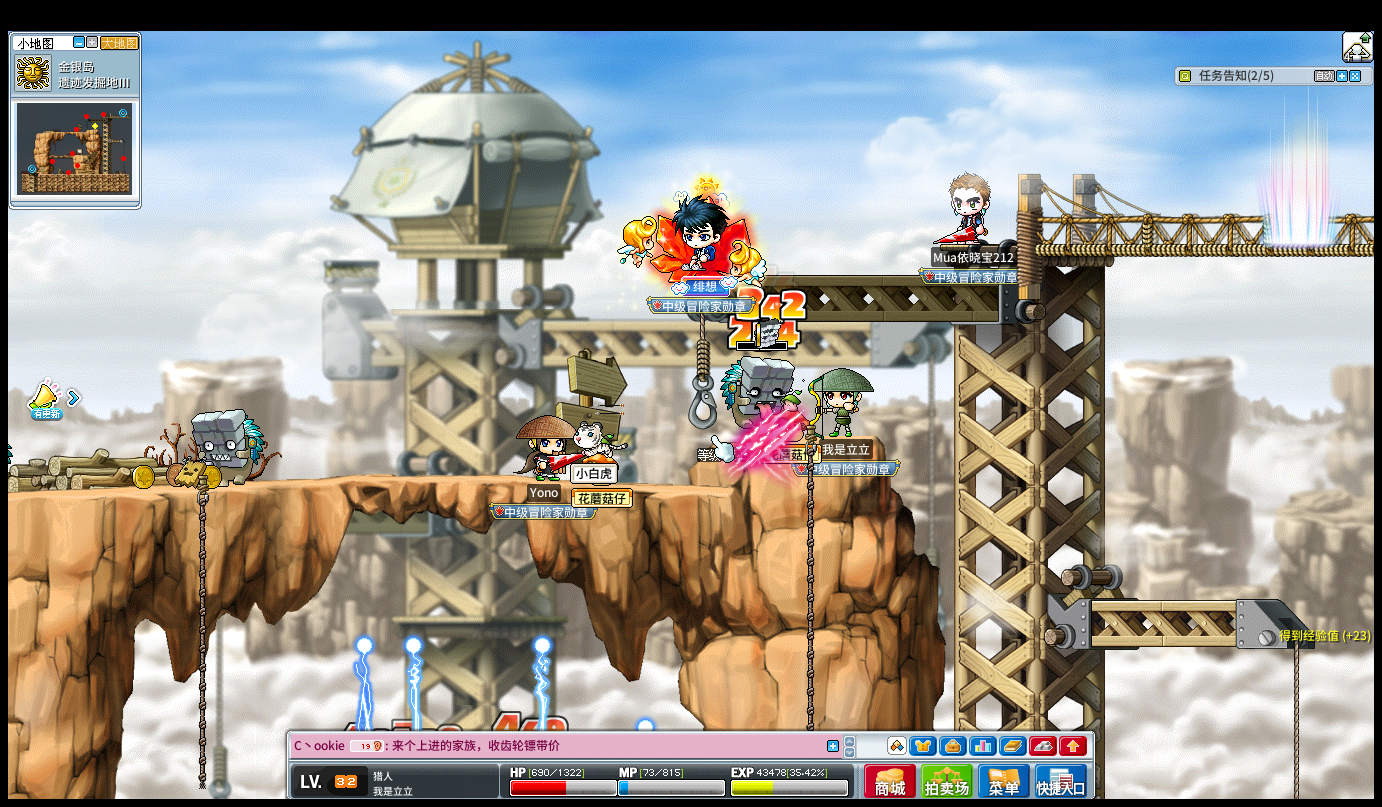floor: (11, 471, 770, 498), (39, 472, 779, 491)
monster: (721, 354, 793, 450), (191, 408, 265, 487)
rope: (193, 474, 207, 796), (802, 445, 817, 725), (1288, 643, 1303, 790)
